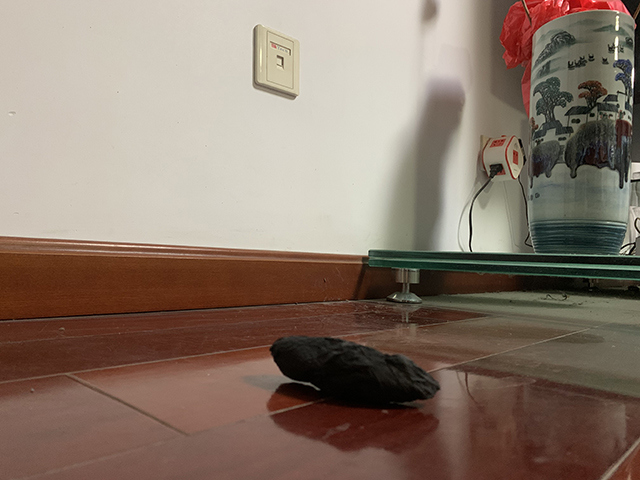feces: (267, 333, 444, 403)
